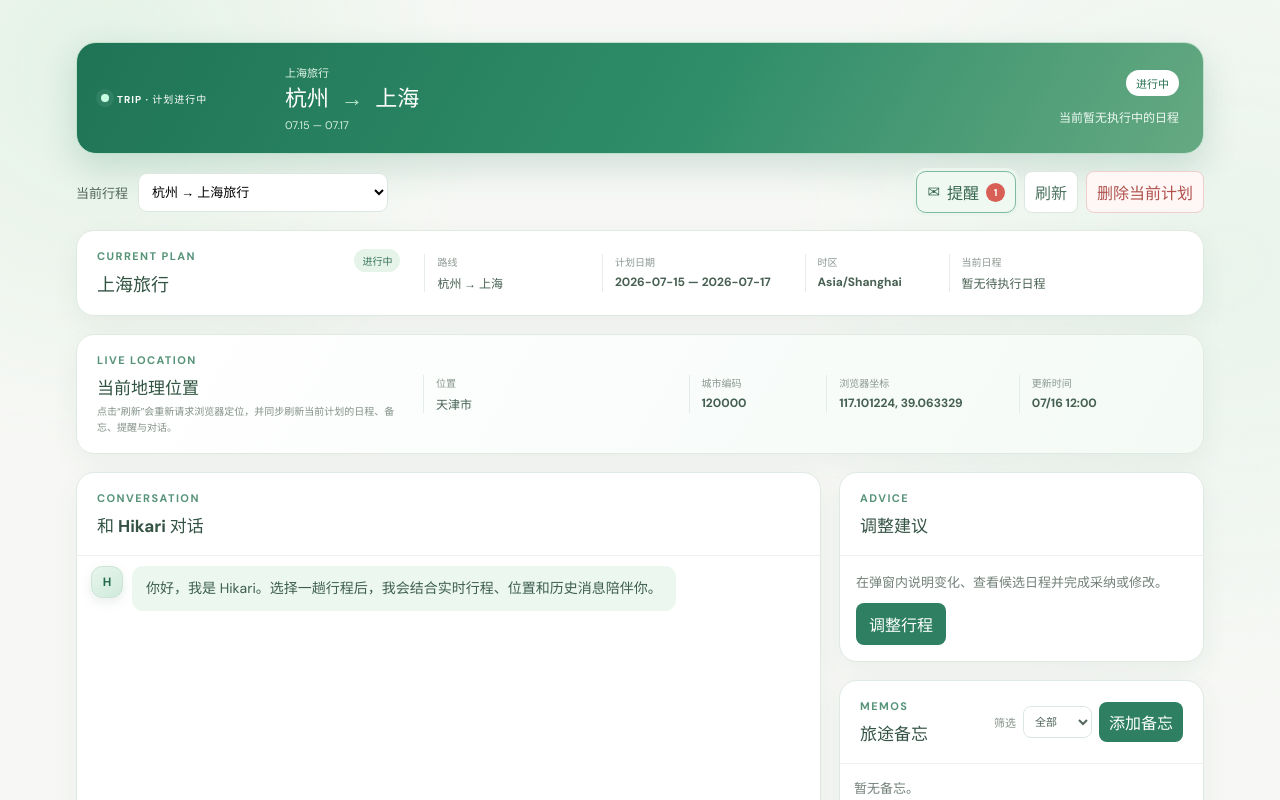
Companion adjustment dialog › opens a reminder inbox with unread count and unread filtering
The image size is (1280, 800).
Expected: the text with class "unread-badge" reads "1", [994,186,997,198]
Click the button with class "notification-inbox-trigger" at point(966, 192), box [916,171,1016,213]
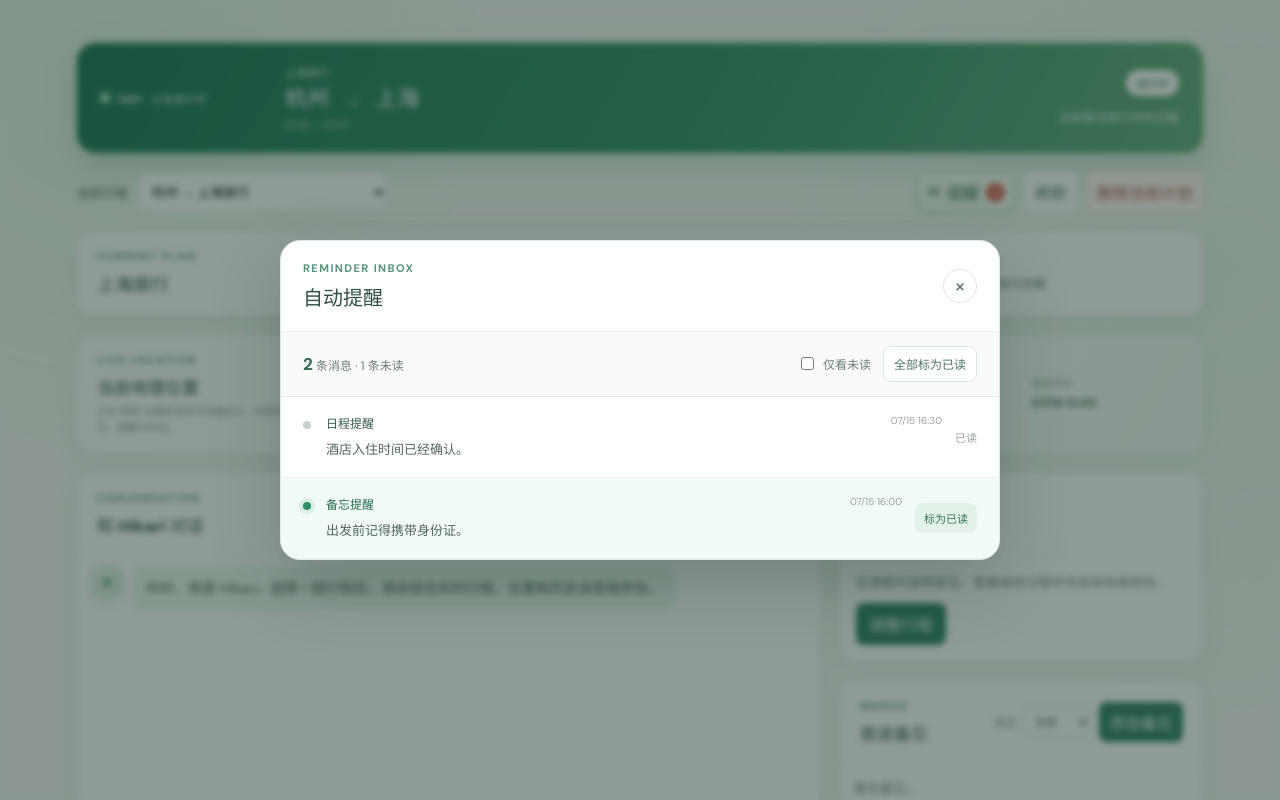
Expected: the dialog with class "notification-dialog" is shown, [280,240,1000,560]
Expected: the number of elements with class "mail-row" is 2, [281,397,999,478]; [281,478,999,559]
Click the checkbox labelled "仅看未读" at point(808, 364), box [801,357,814,370]
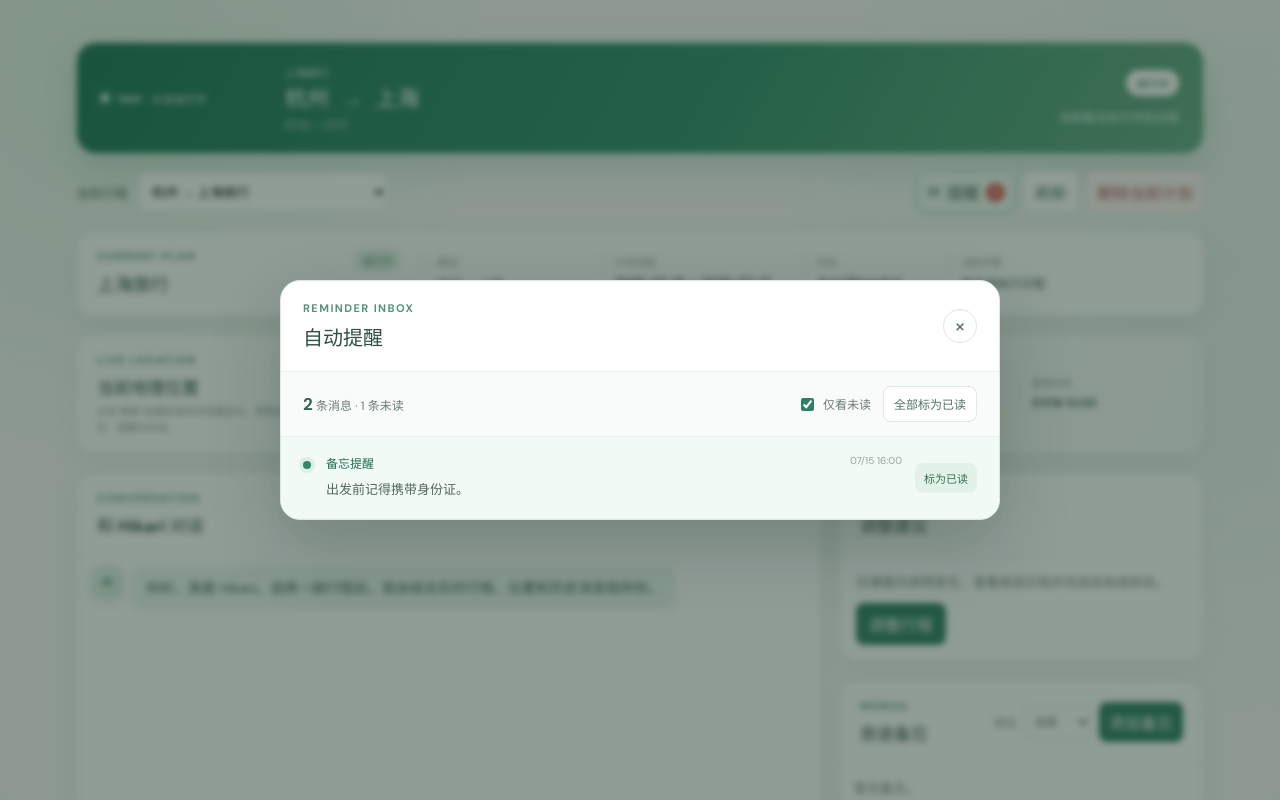
Expected: the number of elements with class "mail-row" is 1, [281,437,999,519]
